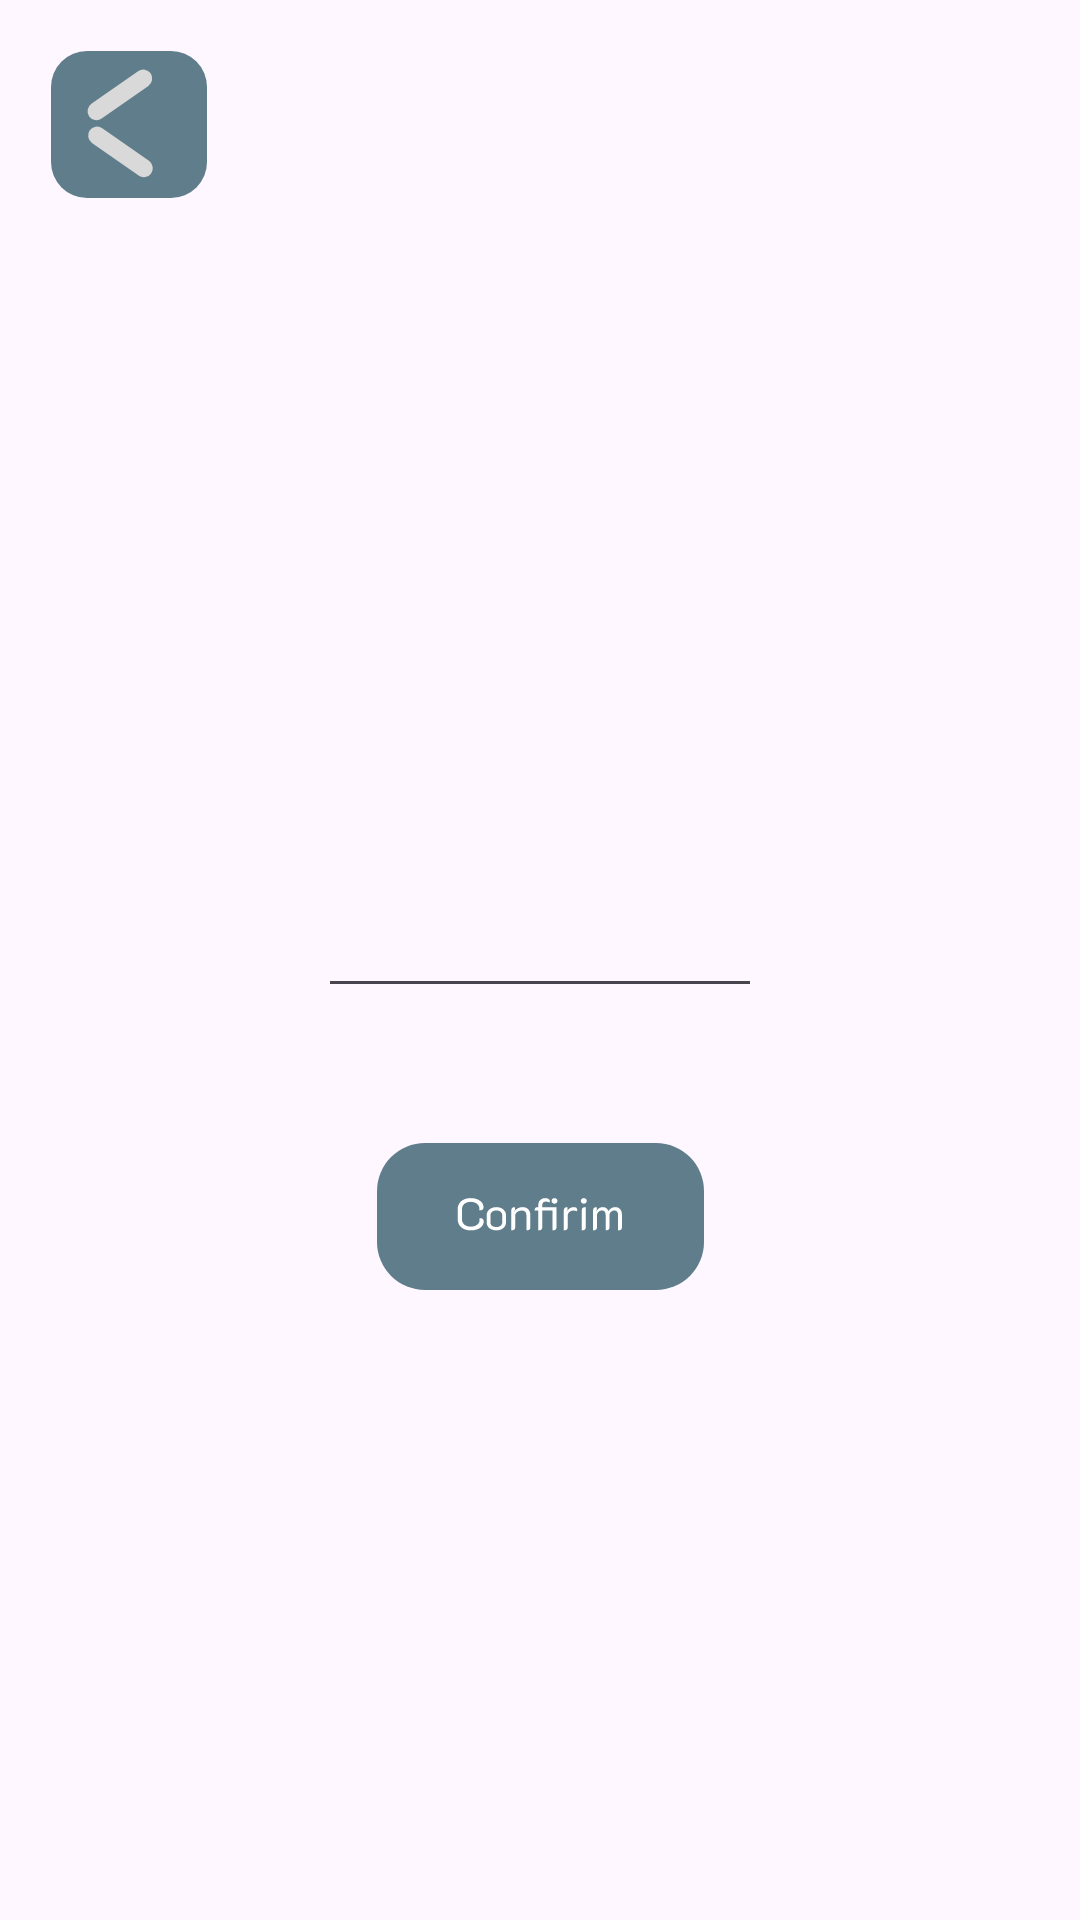

Where to tap for icons on this 1080px×1920px app screen, as (x,y):
back: (129,124)
